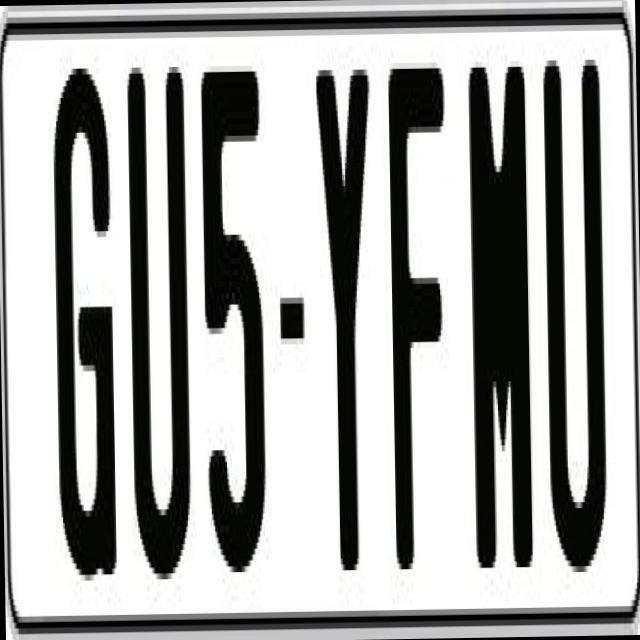5: (197, 64, 273, 602)
F: (386, 55, 458, 592)
G: (48, 56, 114, 575)
M: (468, 60, 534, 591)
U: (121, 61, 192, 608), (541, 59, 613, 578)
Y: (310, 57, 376, 582)
